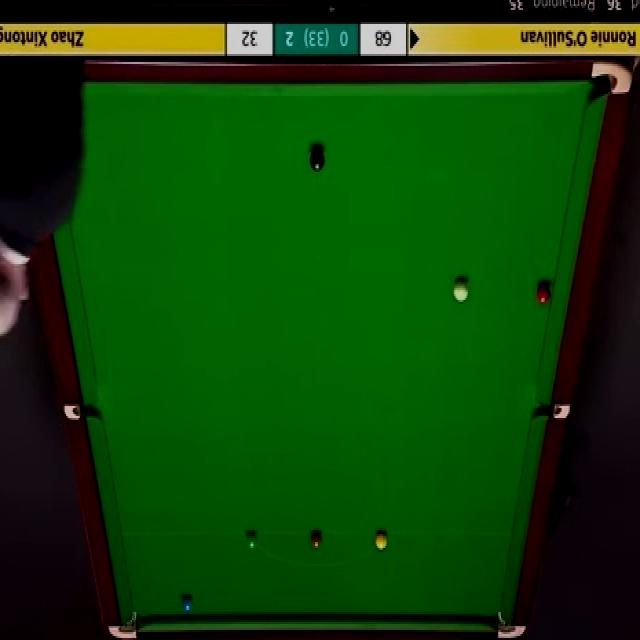black-ball: (309, 147, 326, 173)
blue-ball: (181, 596, 194, 613)
brown-ball: (309, 530, 324, 552)
green-ball: (245, 530, 260, 550)
red-ball: (536, 280, 552, 304)
white-ball: (453, 278, 469, 306)
yellow-ball: (375, 531, 388, 552)
